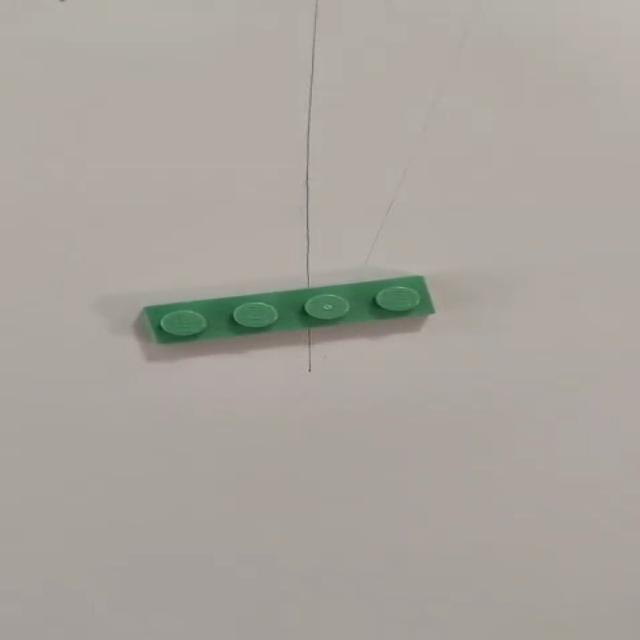C4x1x0: (131, 274, 434, 350)
